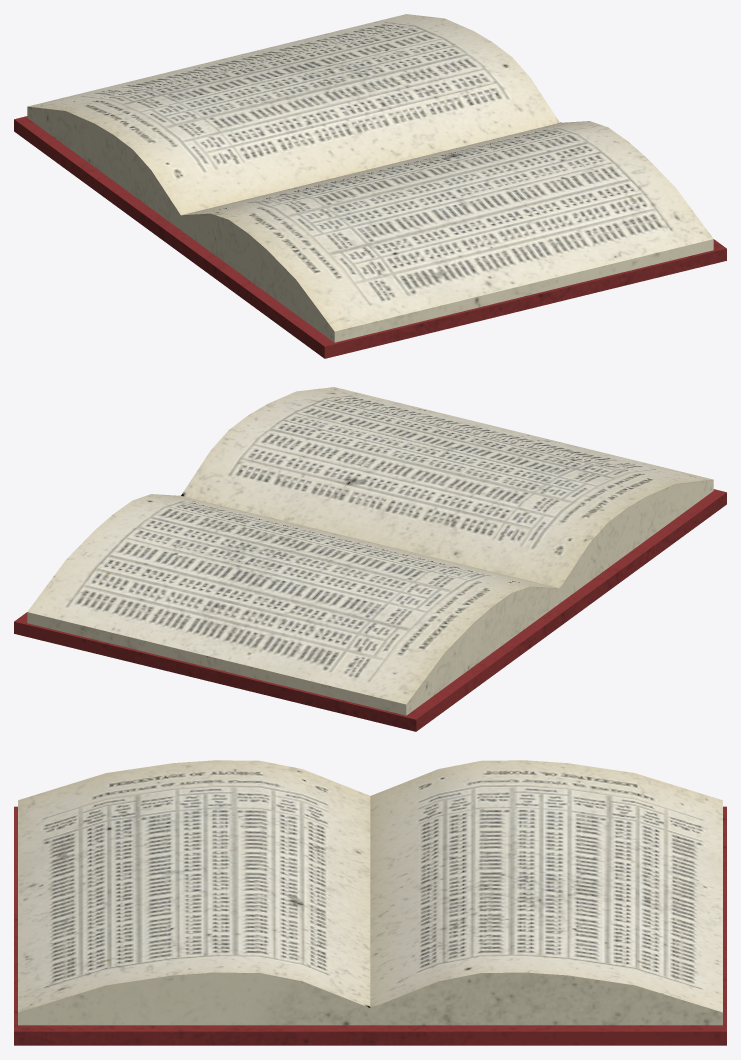
The model's file is SM_Open_Book.fbx.
3 renders of one model, top to bottom at view 1: azimuth 30°, elevation 25°; view 2: azimuth 150°, elevation 25°; view 3: azimuth 270°, elevation 25°, orthographic. The views are drawn at different scales.
Parts seen in each view (by area): view 1: SM_Open_Book_LOD0; view 2: SM_Open_Book_LOD0; view 3: SM_Open_Book_LOD0.
Part boxes in pixels (left/top/right/bottom): SM_Open_Book_LOD0: left=14, top=14, right=726, bottom=358; SM_Open_Book_LOD0: left=14, top=387, right=726, bottom=731; SM_Open_Book_LOD0: left=14, top=760, right=726, bottom=1045.
Size of the model in its own units: 23.34 by 31.24 by 3.23.
Materials: 1 (1 with a texture image).
